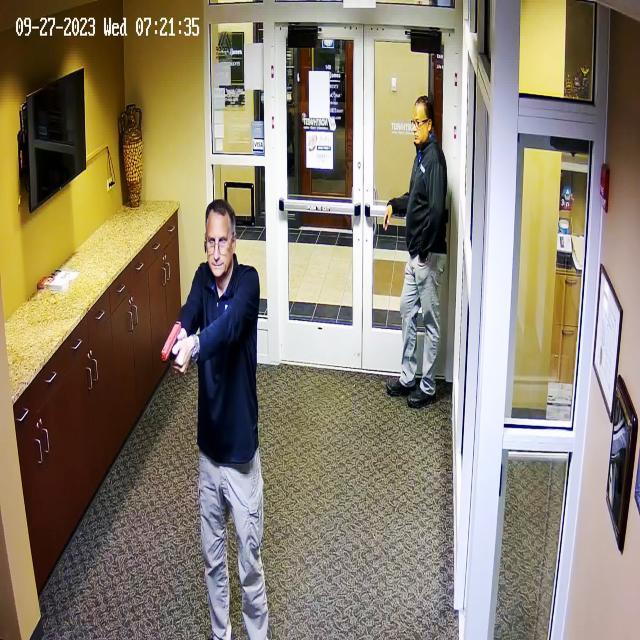Gun: (154, 307, 198, 375)
